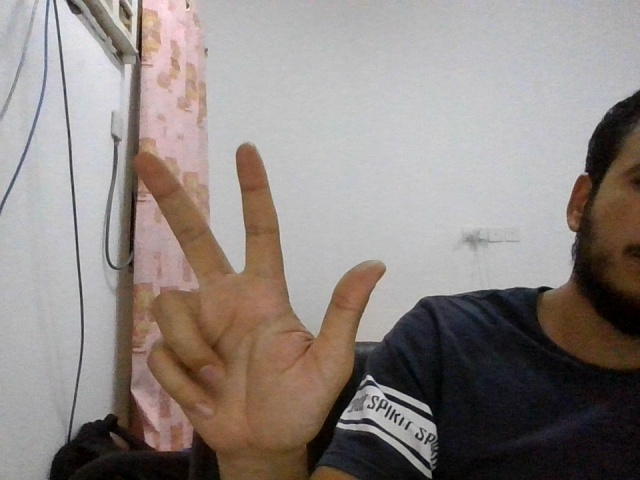Three: (136, 144, 387, 446)
